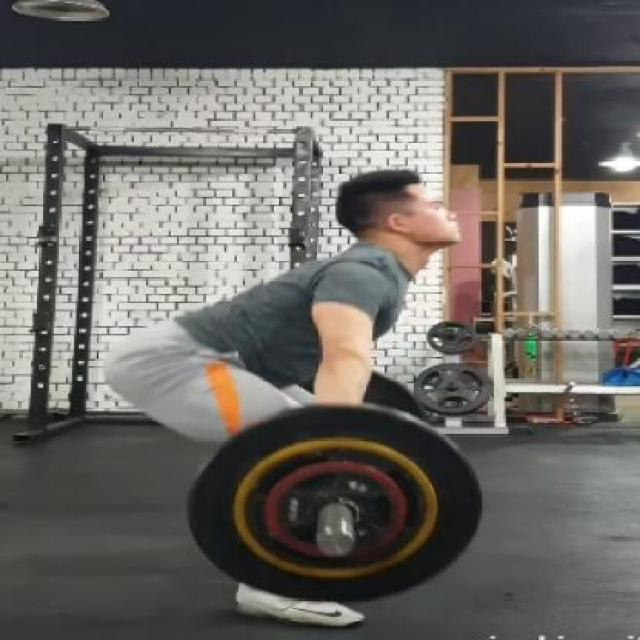Barbell: (311, 524, 360, 560)
